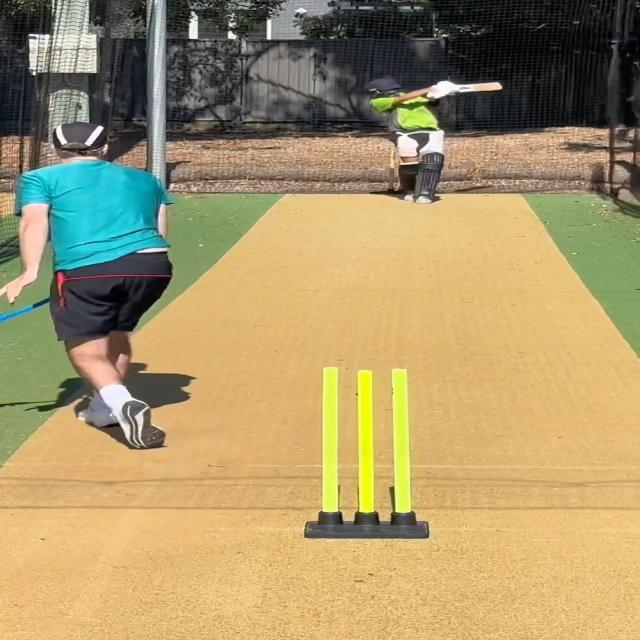stump: (304, 365, 430, 540)
